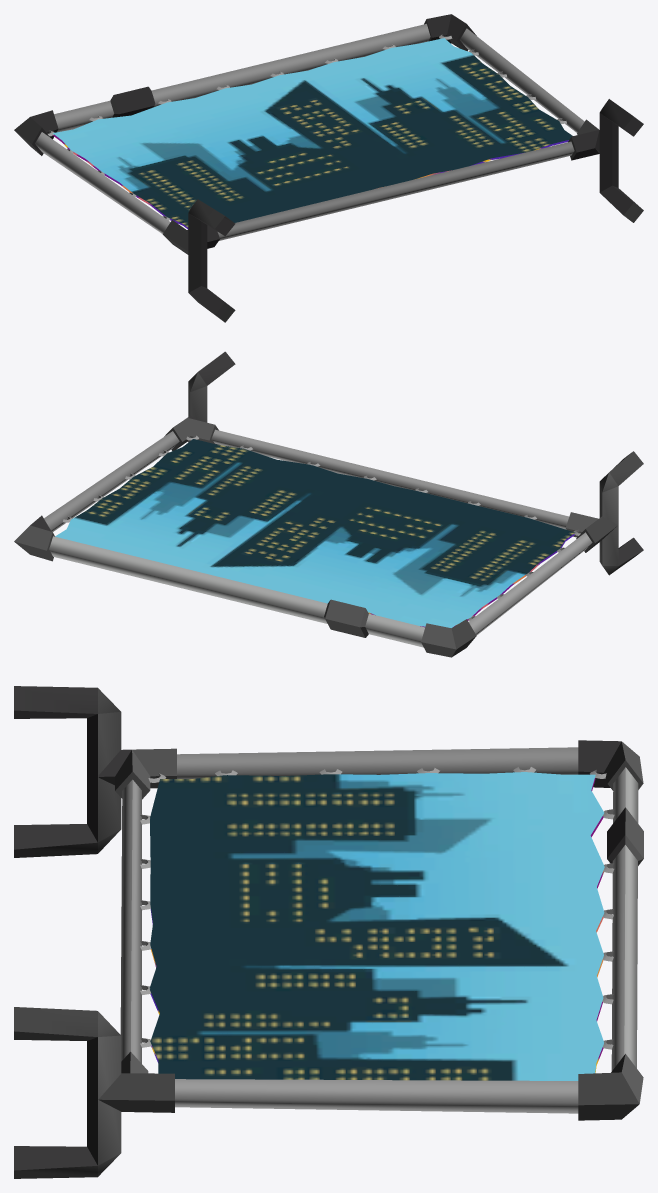
Rendered from BackDrop.fbx.
The picture shows the model from 3 angles, top to bottom: view 1: azimuth 30°, elevation 25°; view 2: azimuth 150°, elevation 25°; view 3: azimuth 270°, elevation 25°; orthographic projection. The views are drawn at different scales.
Parts seen in each view (by area): view 1: BackDrop; view 2: BackDrop; view 3: BackDrop.
Part boxes in pixels (left/top/right/bottom): BackDrop: left=14, top=14, right=643, bottom=322; BackDrop: left=14, top=351, right=643, bottom=657; BackDrop: left=14, top=686, right=643, bottom=1178.
Bounding box in the file's own units: 199 × 45.77 × 152.
